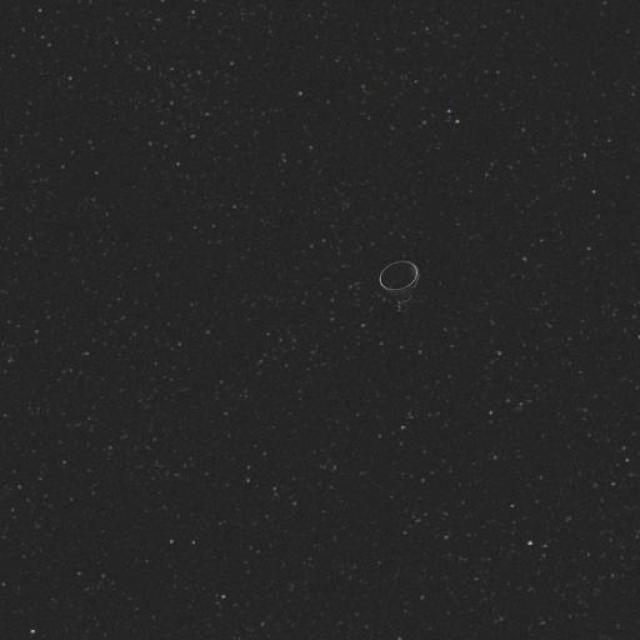debris: (370, 242, 431, 316)
